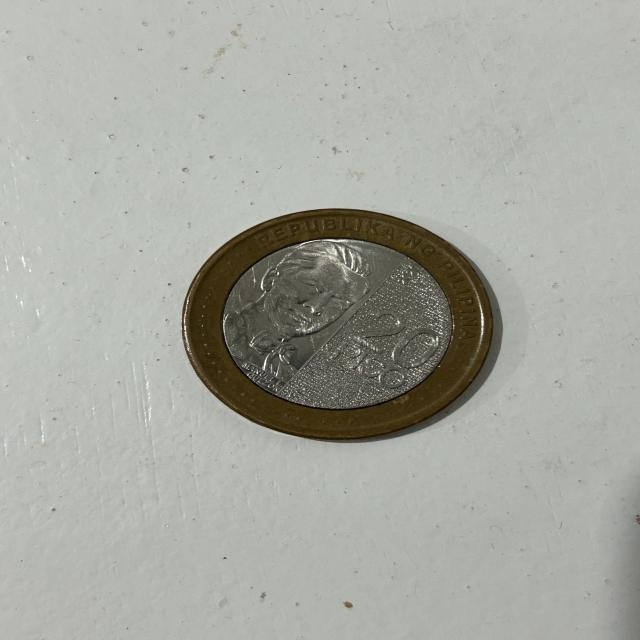20_New_Front: (322, 300, 448, 390)
